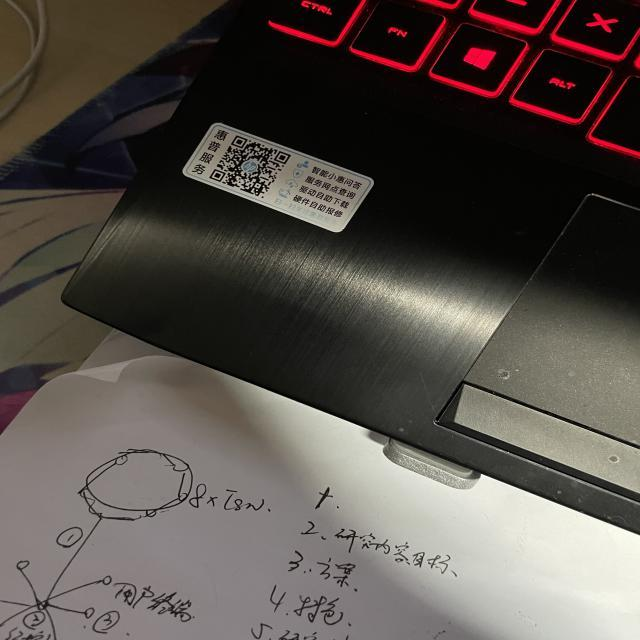qr_code: (210, 136, 292, 200)
